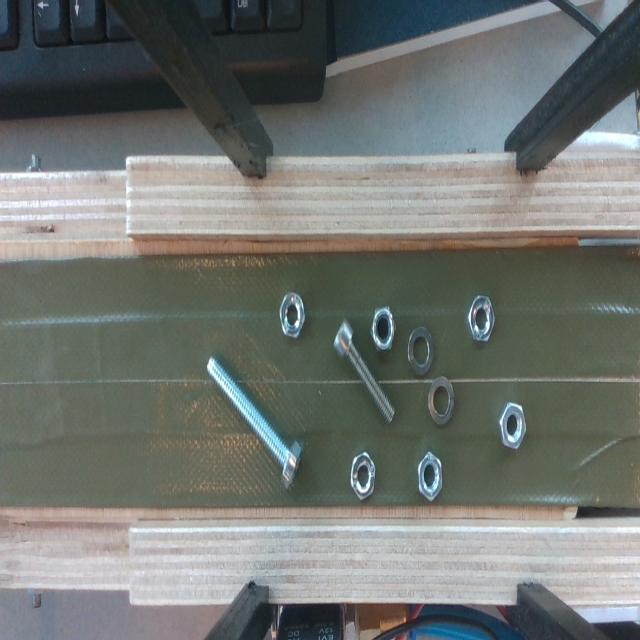Bolt: (206, 357, 301, 488), (334, 321, 394, 422)
Nut: (468, 295, 495, 341), (499, 402, 526, 448), (350, 452, 375, 500), (418, 452, 442, 501), (280, 293, 305, 338), (371, 307, 395, 352)
washer: (428, 376, 454, 426), (408, 326, 434, 375)
